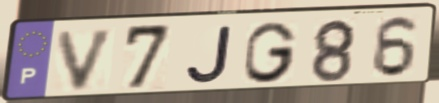6: (370, 13, 421, 80)
7: (122, 23, 173, 94)
8: (308, 15, 358, 84)
G: (242, 19, 300, 85)
J: (183, 23, 234, 86)
V: (54, 26, 120, 93)
